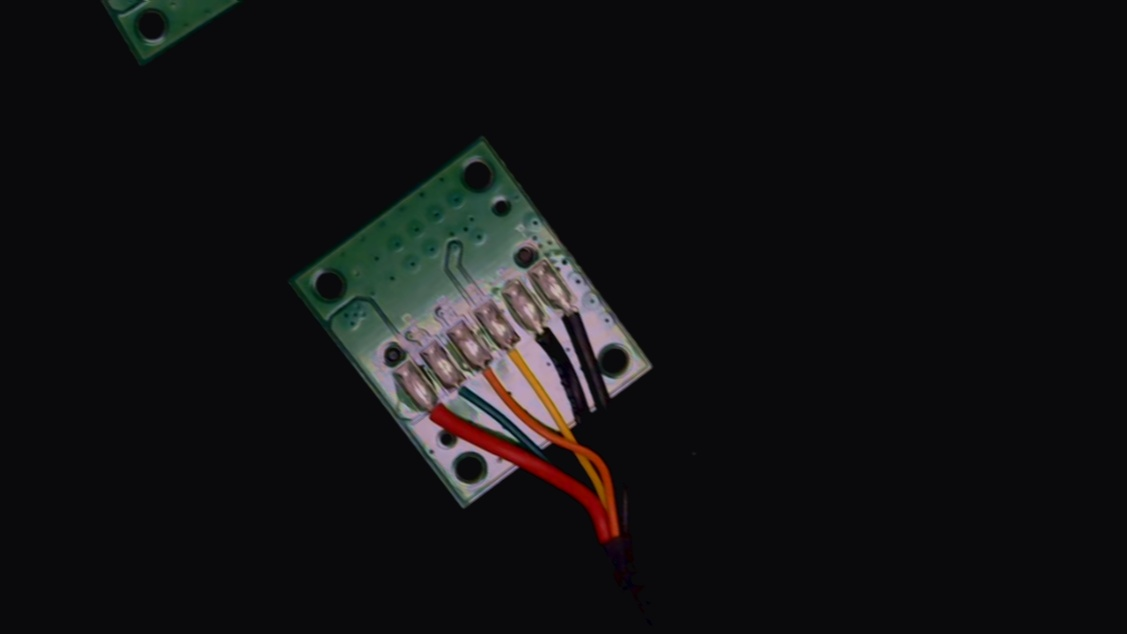Black: (515, 304, 576, 374)
Black1: (543, 280, 601, 345)
Green: (434, 363, 485, 421)
Orange: (464, 346, 520, 411)
Red: (408, 383, 467, 451)
Yellow: (490, 323, 551, 394)
